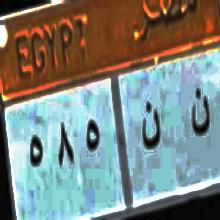5: (26, 122, 44, 175), (82, 114, 101, 160)
8: (54, 122, 75, 178)
noon: (188, 82, 212, 152), (138, 100, 163, 154)
